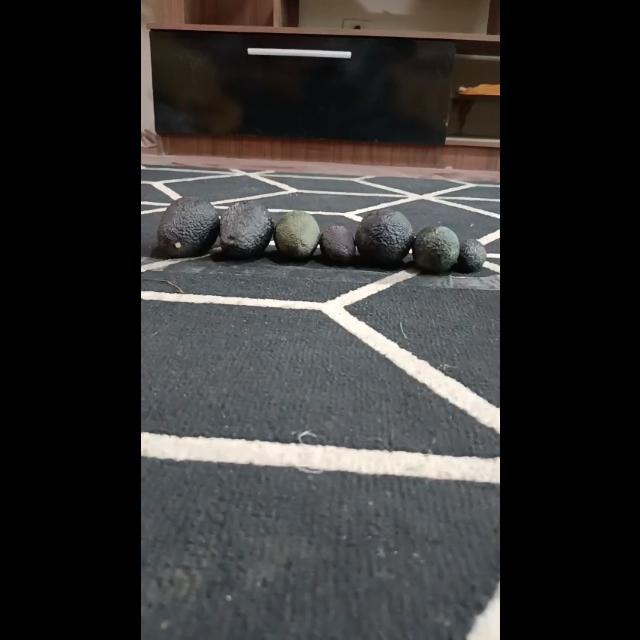Primera: (154, 196, 216, 258), (354, 209, 414, 267), (217, 200, 273, 258)
Segunda: (272, 210, 320, 260), (412, 225, 460, 273)
Tercera: (318, 225, 356, 265), (454, 238, 486, 274)
